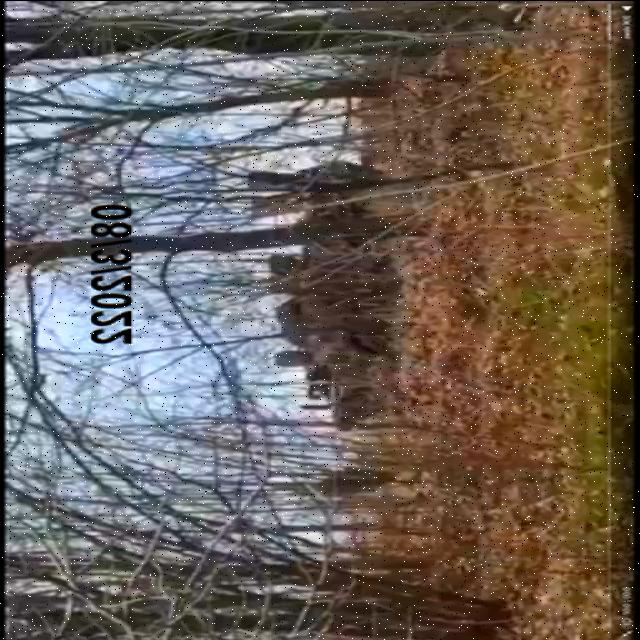APC-IFV: (222, 158, 428, 428)
